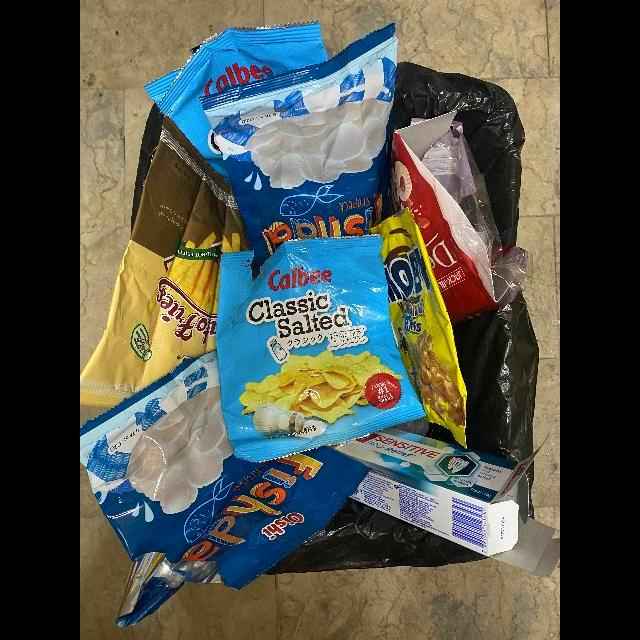cardboard: (326, 428, 560, 578)
food_wrapper: (80, 340, 368, 627), (200, 24, 399, 280), (80, 107, 246, 409), (215, 235, 427, 464), (145, 21, 328, 184), (393, 110, 528, 315), (369, 207, 468, 450)
